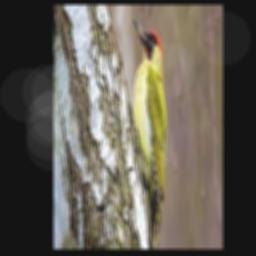Woodpecker: (127, 18, 167, 249)
